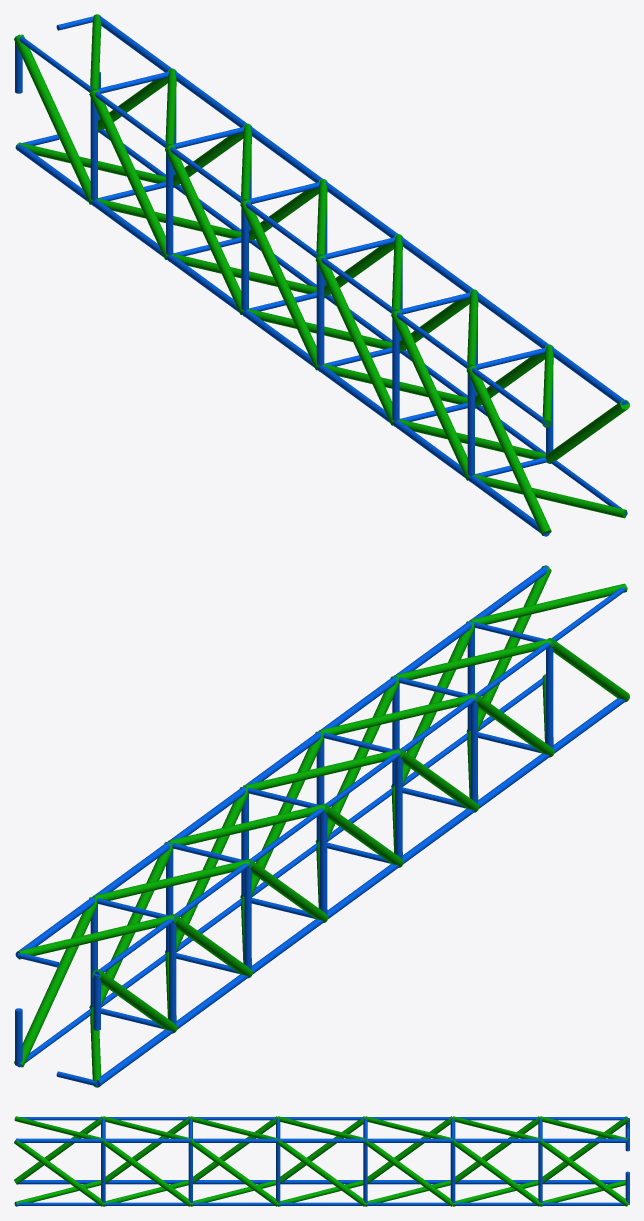
The model's file is 02_01_02_Fachwerk_TT_Torsion.gltf.
3 renders of one model, top to bottom at view 1: azimuth 30°, elevation 25°; view 2: azimuth 150°, elevation 25°; view 3: azimuth 270°, elevation 25°, orthographic. The views are drawn at different scales.
Visible parts, largest first — view 1: Druck Pipes, Zug - Pipes; view 2: Zug - Pipes, Druck Pipes; view 3: Druck Pipes, Zug - Pipes.
Part boxes in pixels (x1,y1,x2,y2): Druck Pipes: (14,14,629,535); Zug - Pipes: (15,16,628,536); Zug - Pipes: (15,565,627,1087); Druck Pipes: (14,566,629,1087); Druck Pipes: (14,1116,629,1206); Zug - Pipes: (16,1117,629,1205).
Bounding box in the file's own units: 66.98 × 85.78 × 705.
